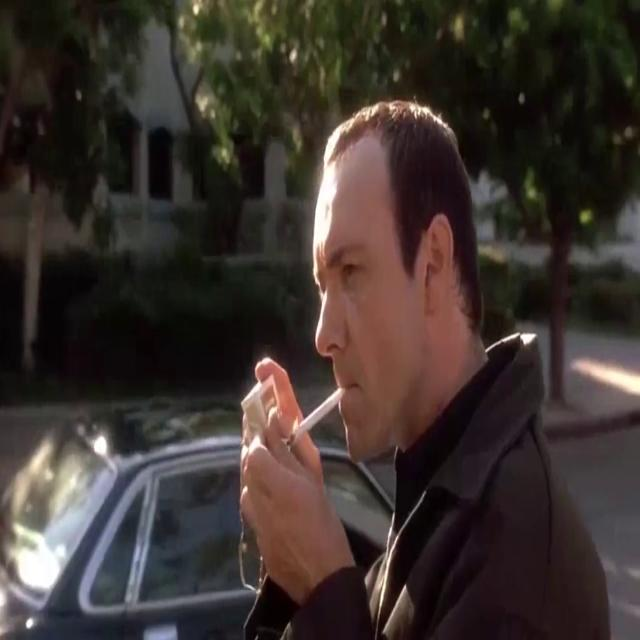Smooking: (277, 371, 348, 438)
